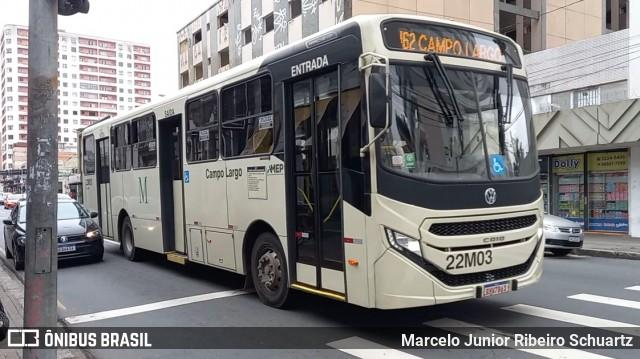CAMPO LARGO: (415, 30, 505, 65)
